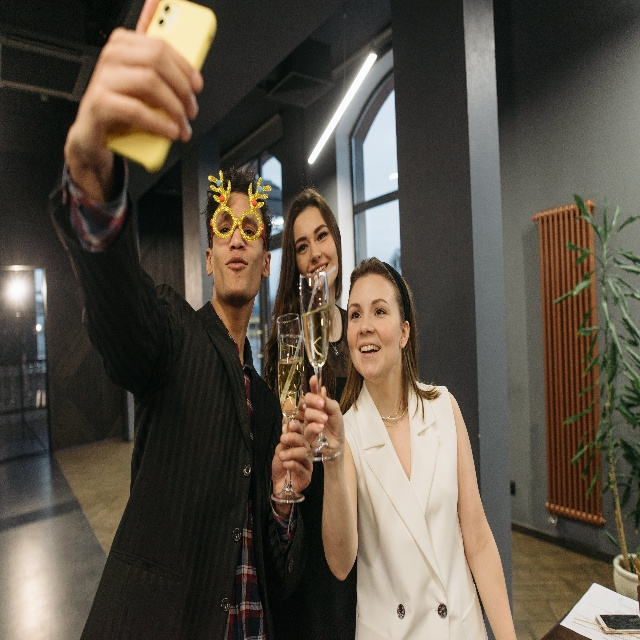Sin_guantes: (72, 34, 204, 156), (271, 423, 314, 500), (304, 376, 342, 457)
